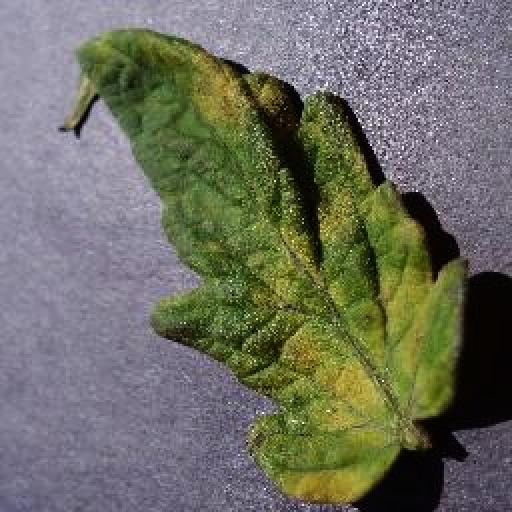disease_tomato: (72, 30, 468, 506)
